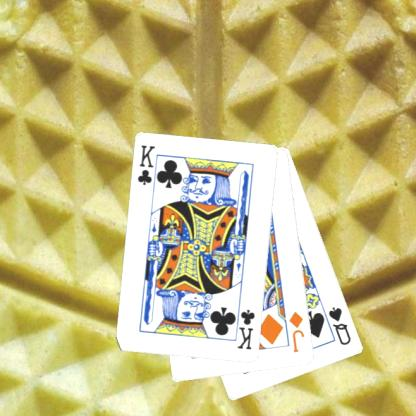JD: (286, 309, 306, 354)
KC: (134, 142, 160, 193), (231, 301, 257, 351)
QS: (326, 304, 352, 347)
